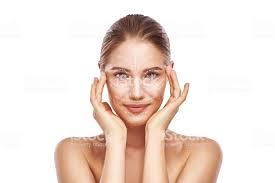white_female: (97, 34, 176, 135)
